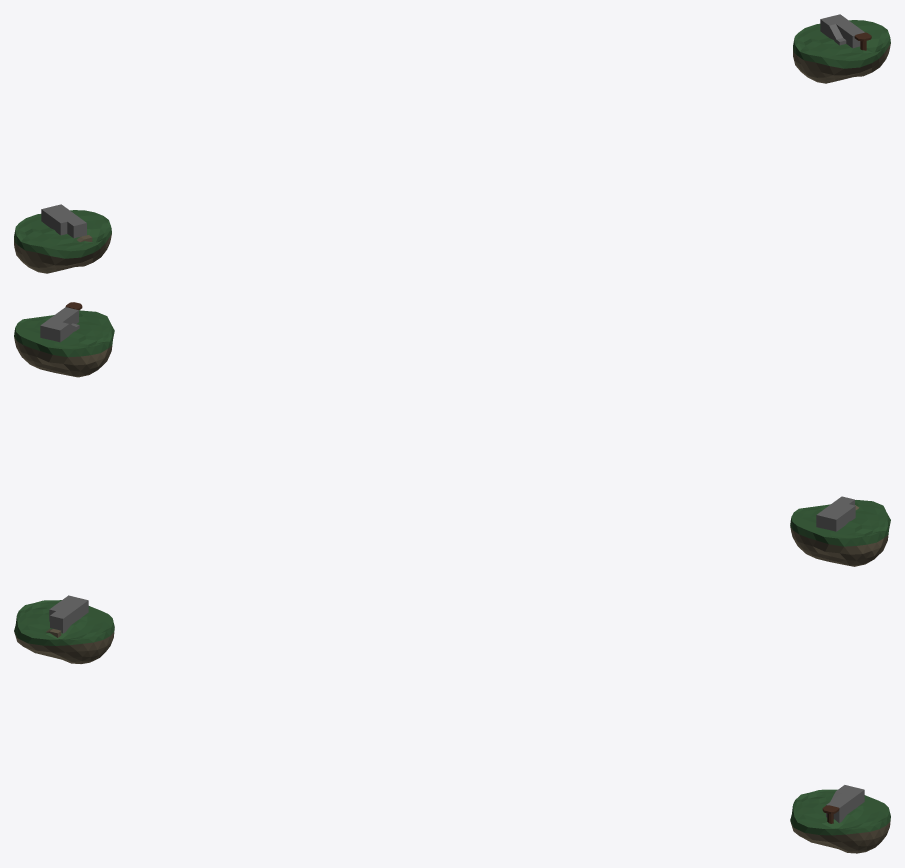
Rendered from Level1_Fin_collider.fbx.
The picture shows the model from 3 angles, top to bottom: view 1: azimuth 30°, elevation 25°; view 2: azimuth 150°, elevation 25°; view 3: azimuth 330°, elevation 25°; orthographic projection.
Visible parts, largest first — view 1: Collider; view 2: Collider; view 3: Collider.
Part boxes in pixels (x1,y1,x2,y2): Collider: (14,14,890,273); Collider: (14,302,890,566); Collider: (14,595,890,853).
Size of the model in its own units: 279 by 15.94 by 27.14.
